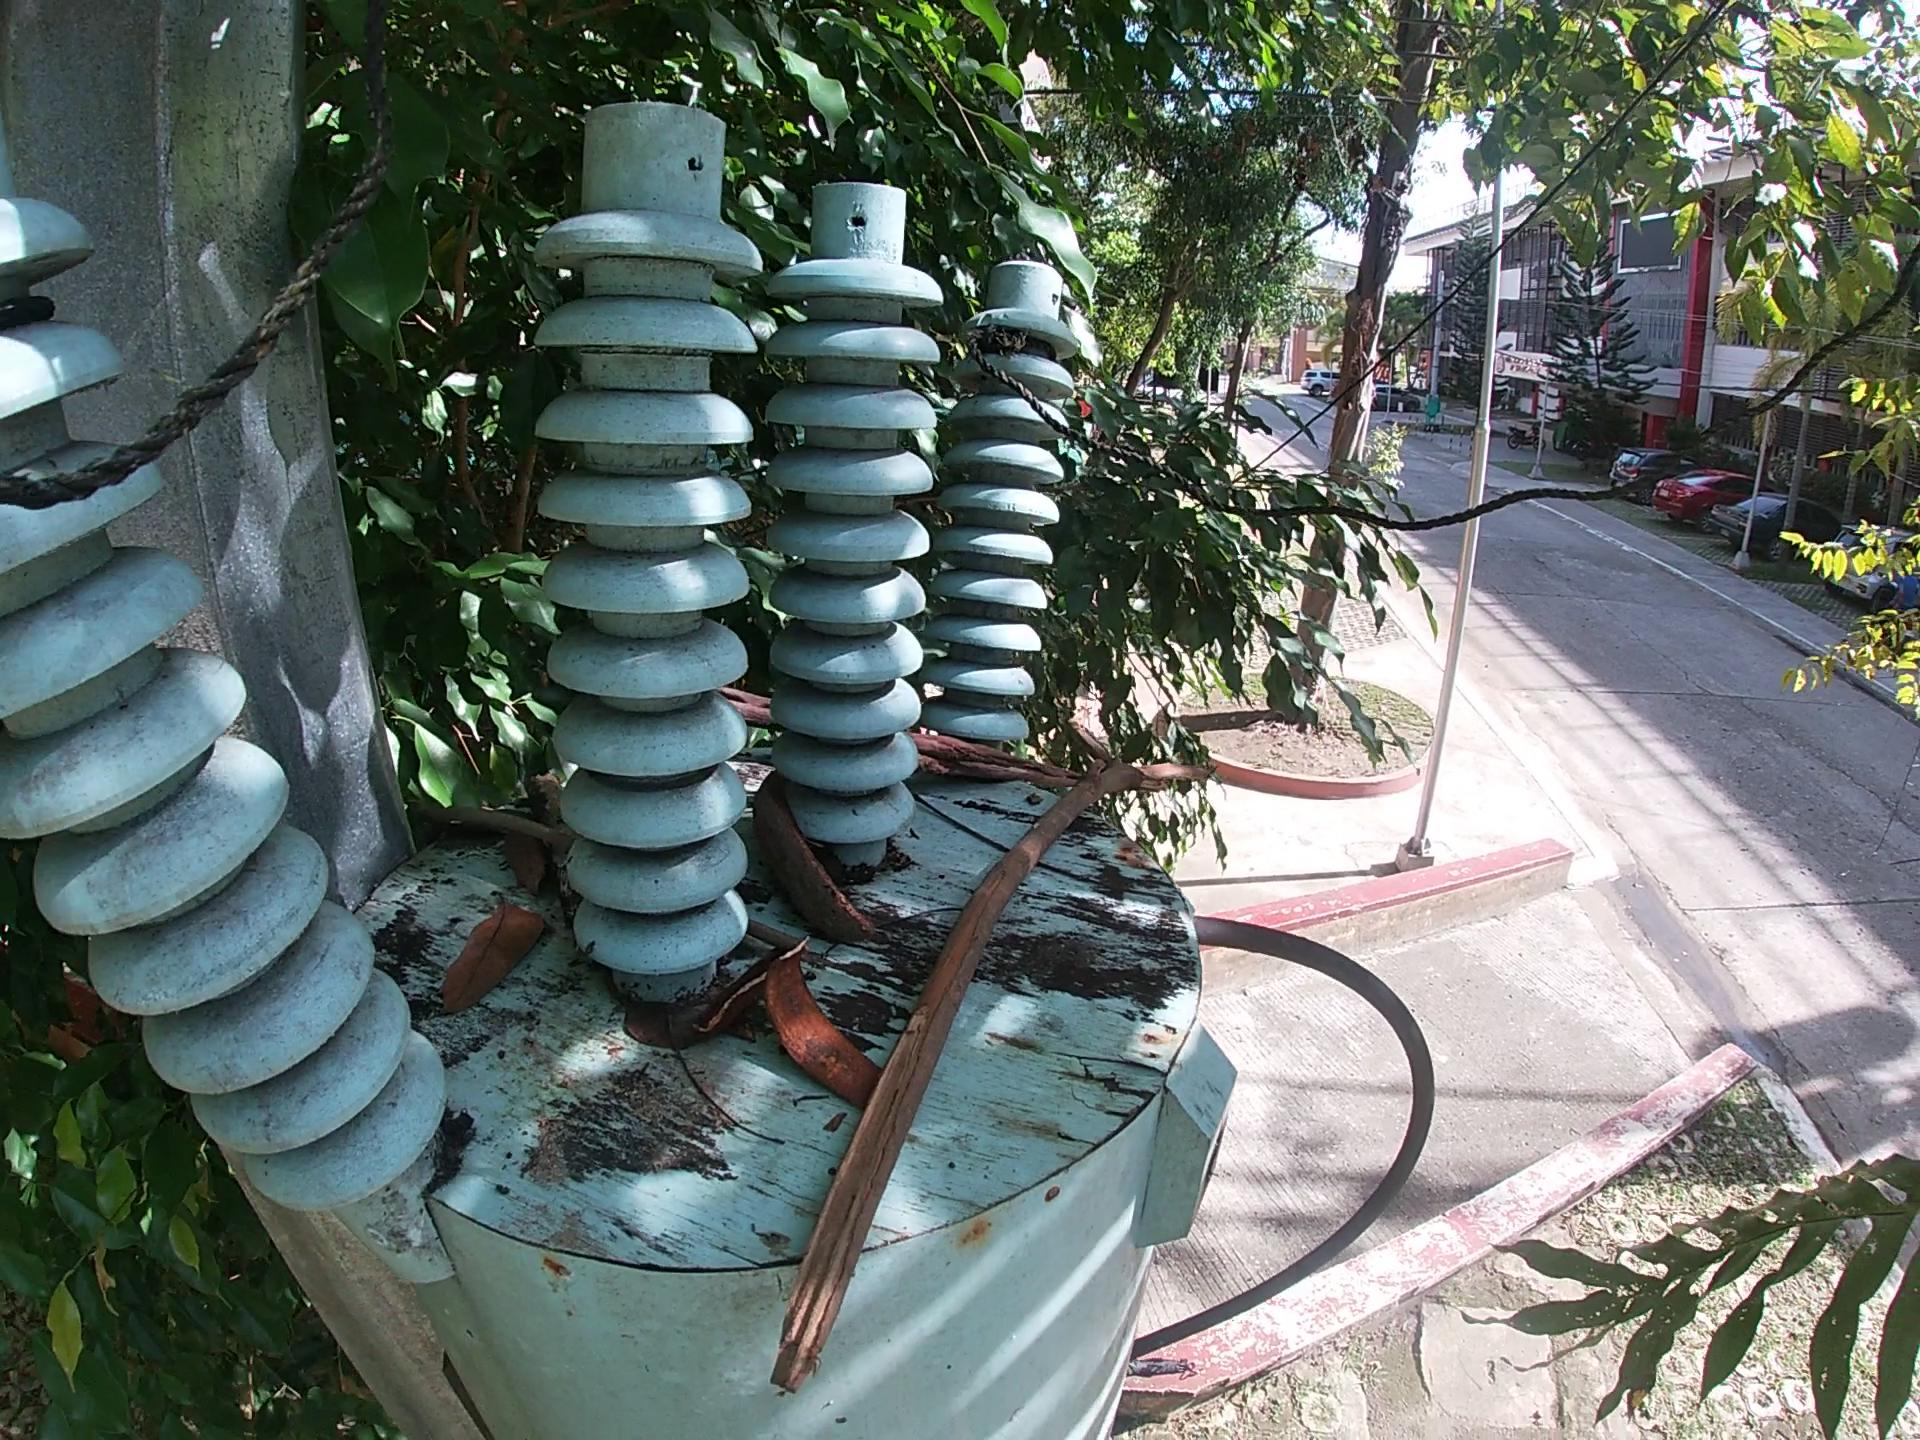leaf: (432, 883, 550, 1019), (617, 988, 715, 1054), (500, 826, 547, 895)
mahogany fruit: (748, 761, 883, 945), (765, 938, 884, 1116), (691, 942, 792, 1038)
tree branch: (763, 709, 1222, 1398), (714, 684, 1079, 790), (522, 762, 588, 947), (411, 805, 574, 853)
